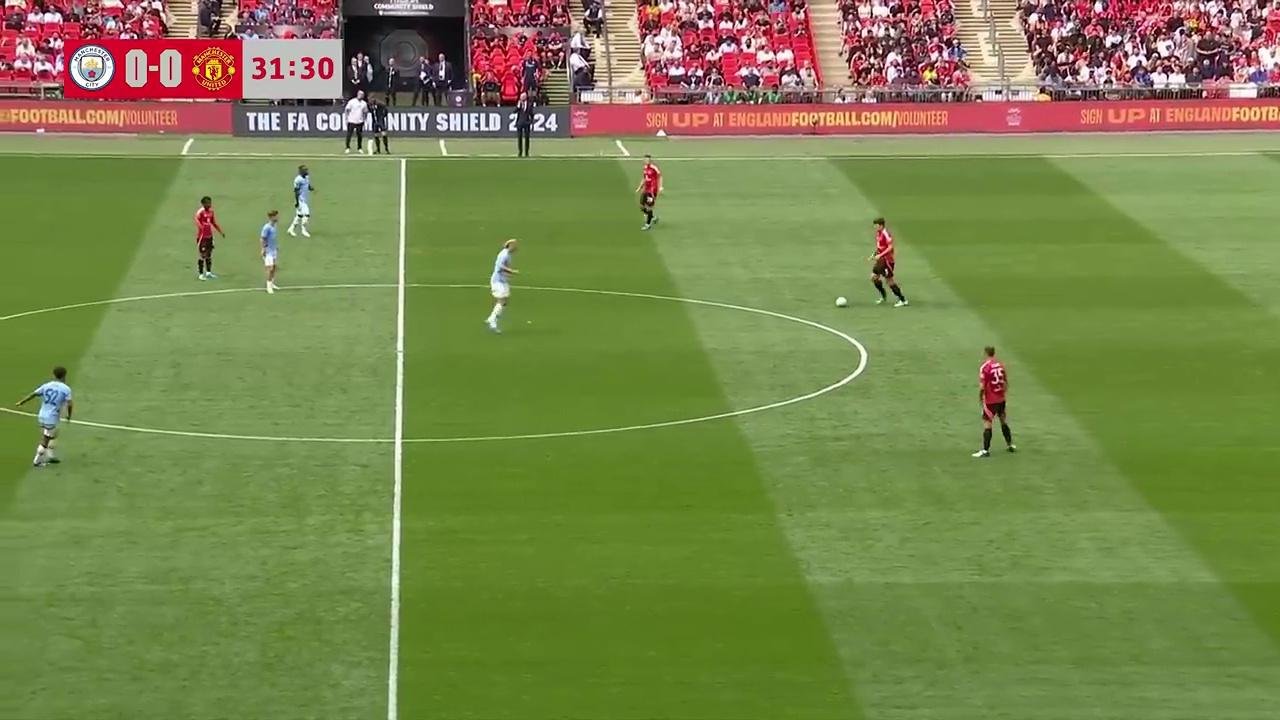ball: (833, 293, 848, 308)
player: (16, 366, 73, 467), (975, 346, 1016, 457), (865, 218, 908, 306), (484, 237, 519, 332), (194, 195, 225, 279), (636, 154, 663, 230), (289, 165, 315, 238), (259, 209, 279, 293)
